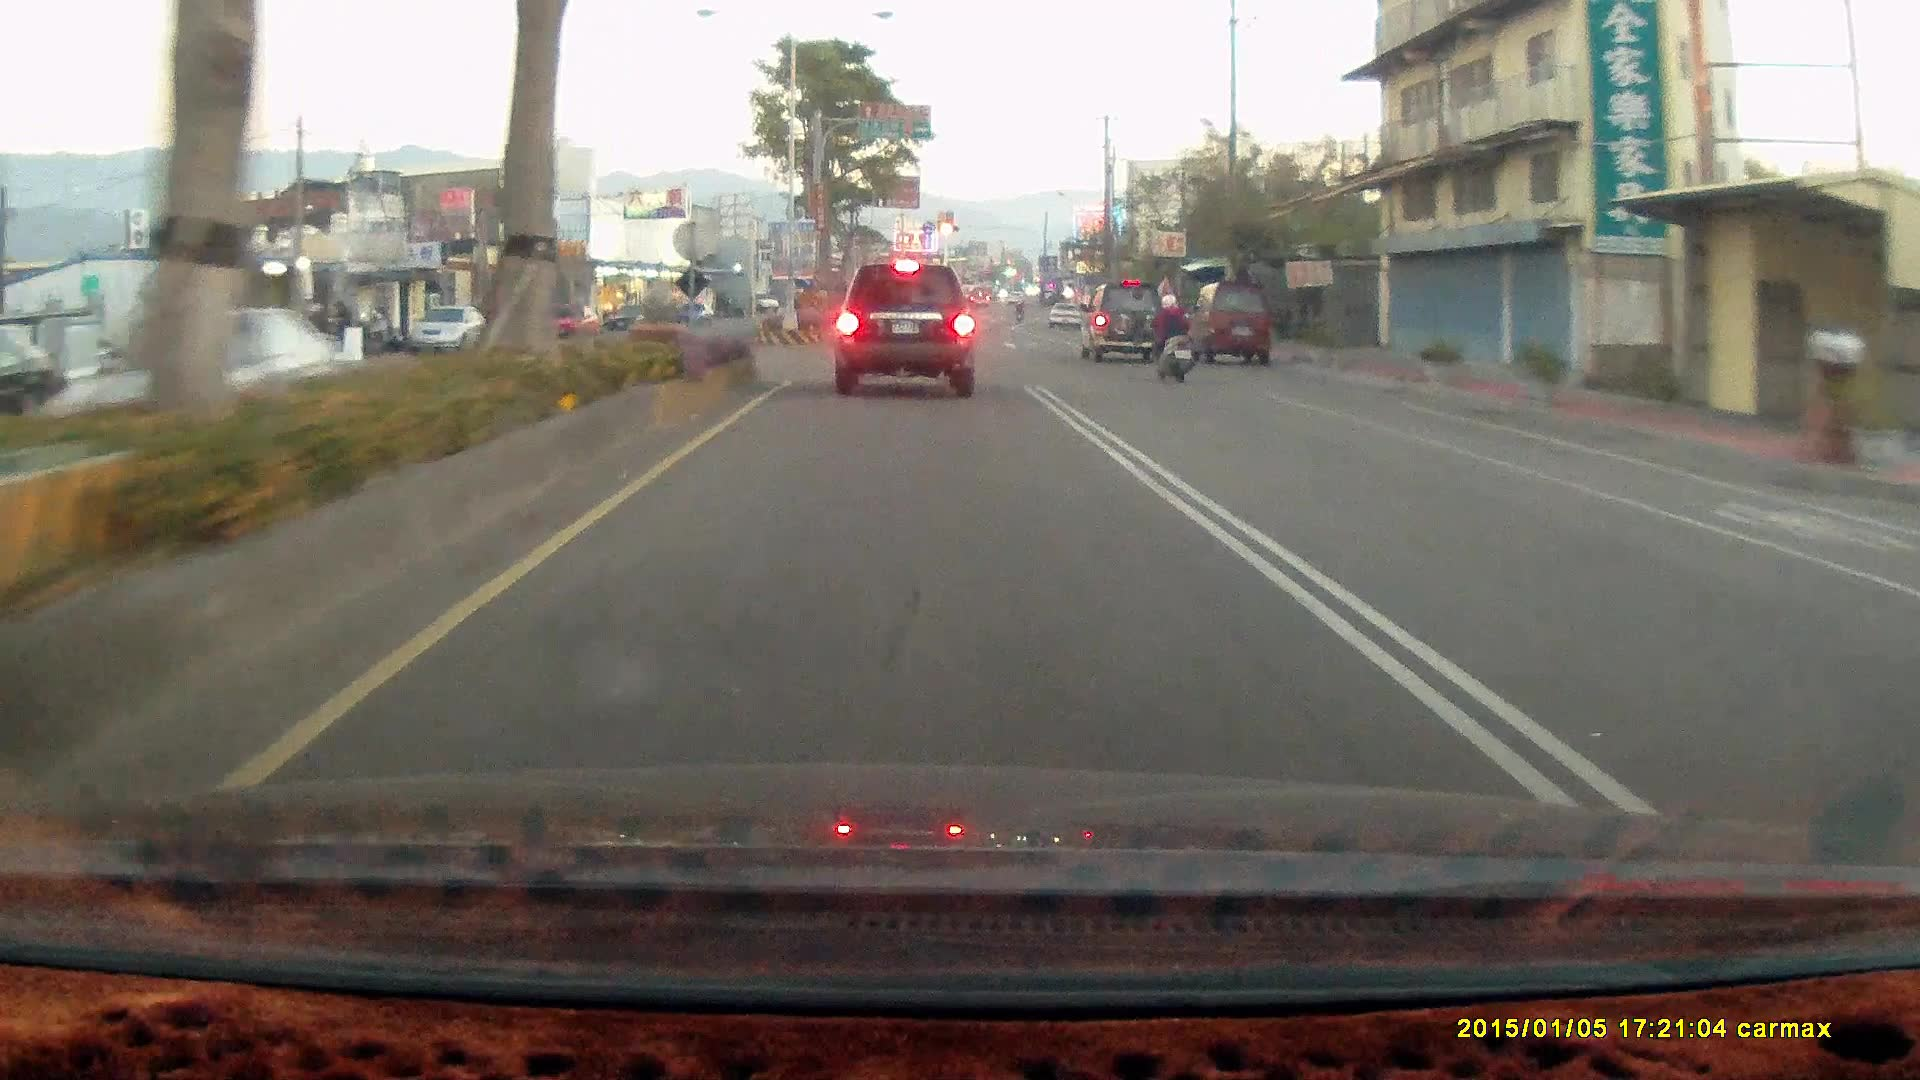rider: (1138, 286, 1203, 389), (1140, 291, 1191, 383)
vehicle: (831, 257, 986, 398), (834, 264, 972, 396), (1083, 281, 1178, 368), (1187, 282, 1274, 374), (1075, 280, 1166, 363), (1189, 281, 1271, 363), (404, 307, 492, 356), (406, 304, 489, 352)
